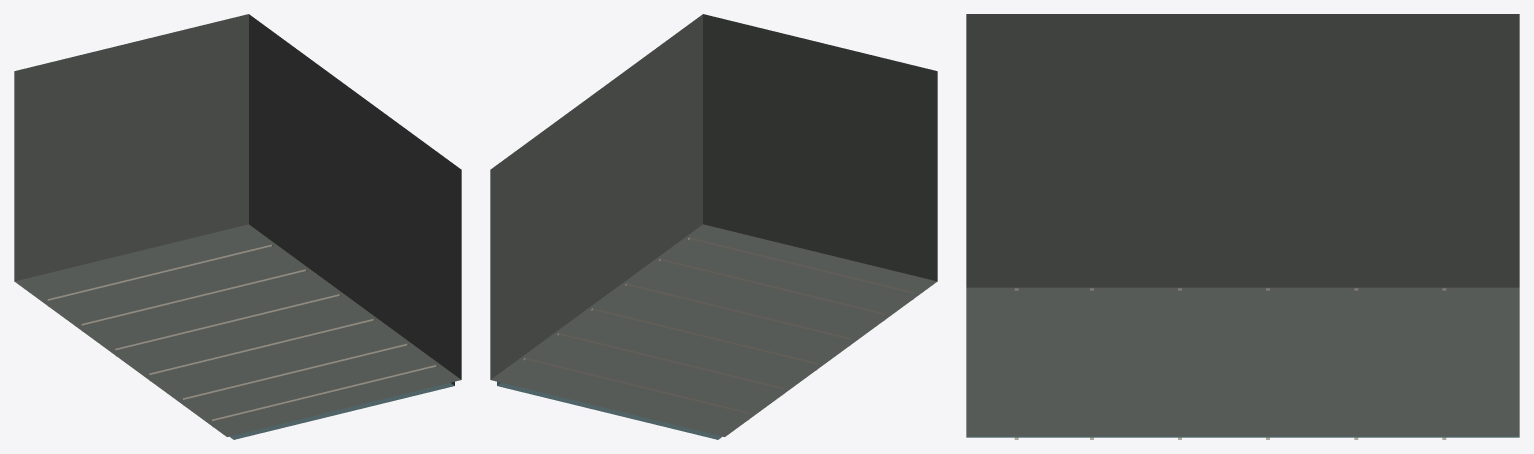
File: office_6f.glb
3 renders of one model, left to right at view 1: azimuth 30°, elevation 25°; view 2: azimuth 150°, elevation 25°; view 3: azimuth 270°, elevation 25°, orthographic. The views are drawn at different scales.
Size of the model in its own units: 14 by 12.3 by 22.
